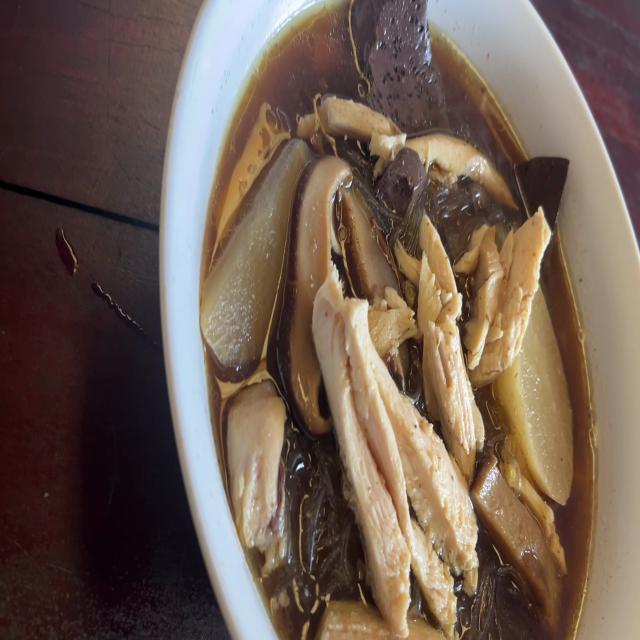noodle: (344, 0, 444, 129), (379, 146, 421, 218), (524, 148, 560, 216)
